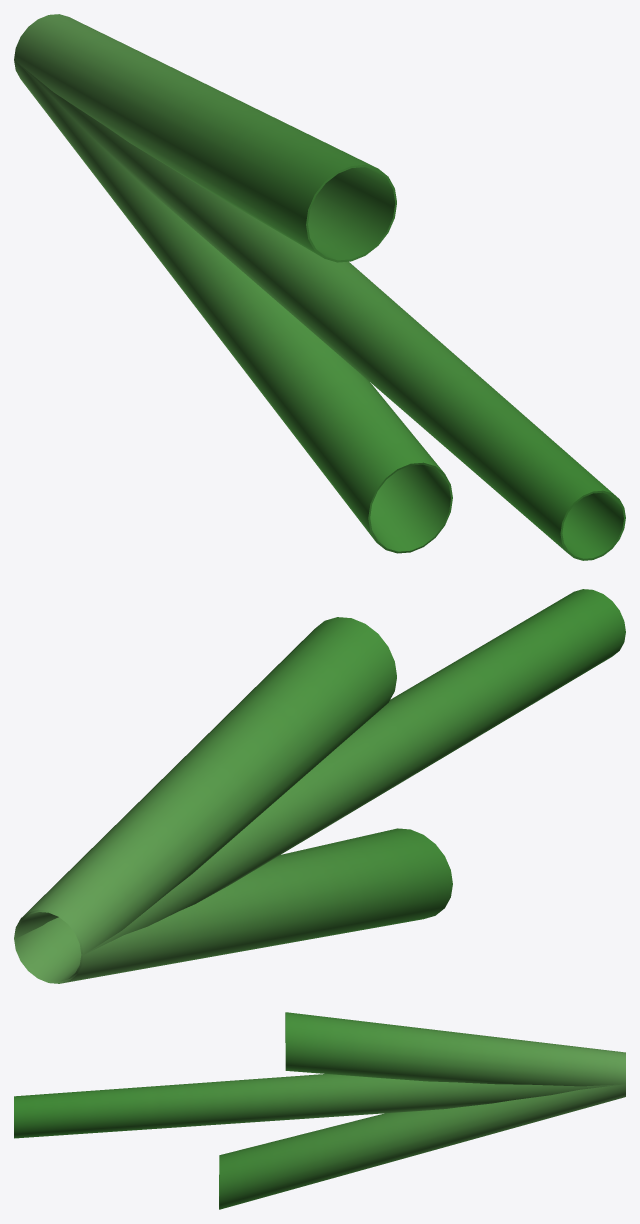
The model's file is chives1_sliced_4.fbx.
3 renders of one model, top to bottom at view 1: azimuth 30°, elevation 25°; view 2: azimuth 150°, elevation 25°; view 3: azimuth 270°, elevation 25°, orthographic. The views are drawn at different scales.
Parts seen in each view (by area): view 1: Chives_1_sliced.004; view 2: Chives_1_sliced.004; view 3: Chives_1_sliced.004.
Boxes of the visible parts, box(x1,y1,x2,y2) form: Chives_1_sliced.004: box(14, 14, 625, 560); Chives_1_sliced.004: box(14, 589, 625, 983); Chives_1_sliced.004: box(14, 1012, 625, 1209).
Size of the model in its own units: 46.49 by 167 by 481.
